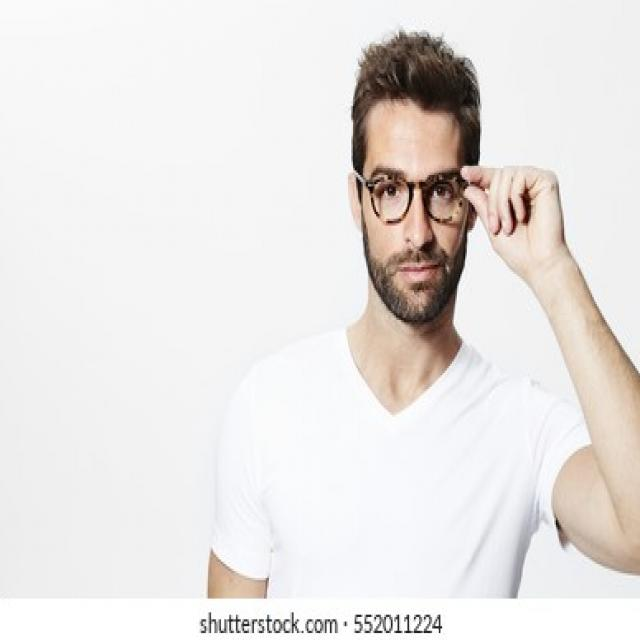Glasses: (361, 166, 480, 230)
